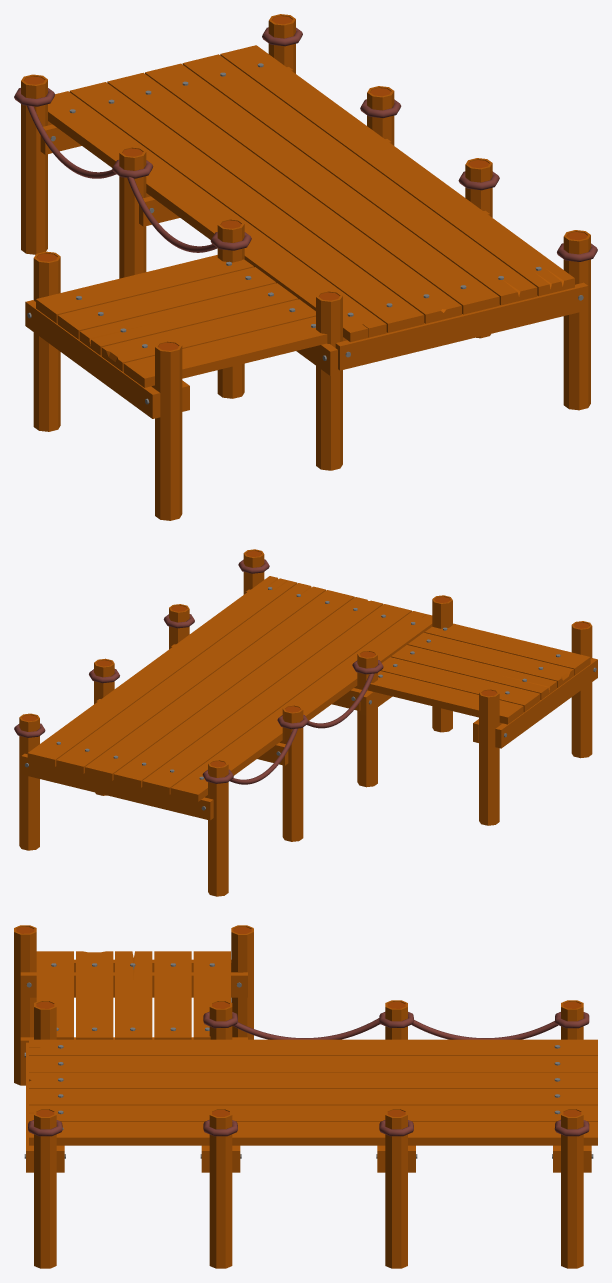
Rendered from pier.fbx.
The picture shows the model from 3 angles, top to bottom: view 1: azimuth 30°, elevation 25°; view 2: azimuth 150°, elevation 25°; view 3: azimuth 270°, elevation 25°; orthographic projection. The views are drawn at different scales.
Parts seen in each view (by area): view 1: Cylinder.048; view 2: Cylinder.048; view 3: Cylinder.048.
Boxes of the visible parts, x1=… form: Cylinder.048: x1=14, y1=14, x2=597, y2=520; Cylinder.048: x1=14, y1=549, x2=597, y2=896; Cylinder.048: x1=14, y1=925, x2=597, y2=1268.
Bounding box in the file's own units: 414 × 146 × 513.
